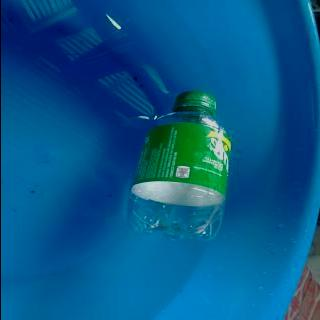bottle: (125, 90, 232, 243)
